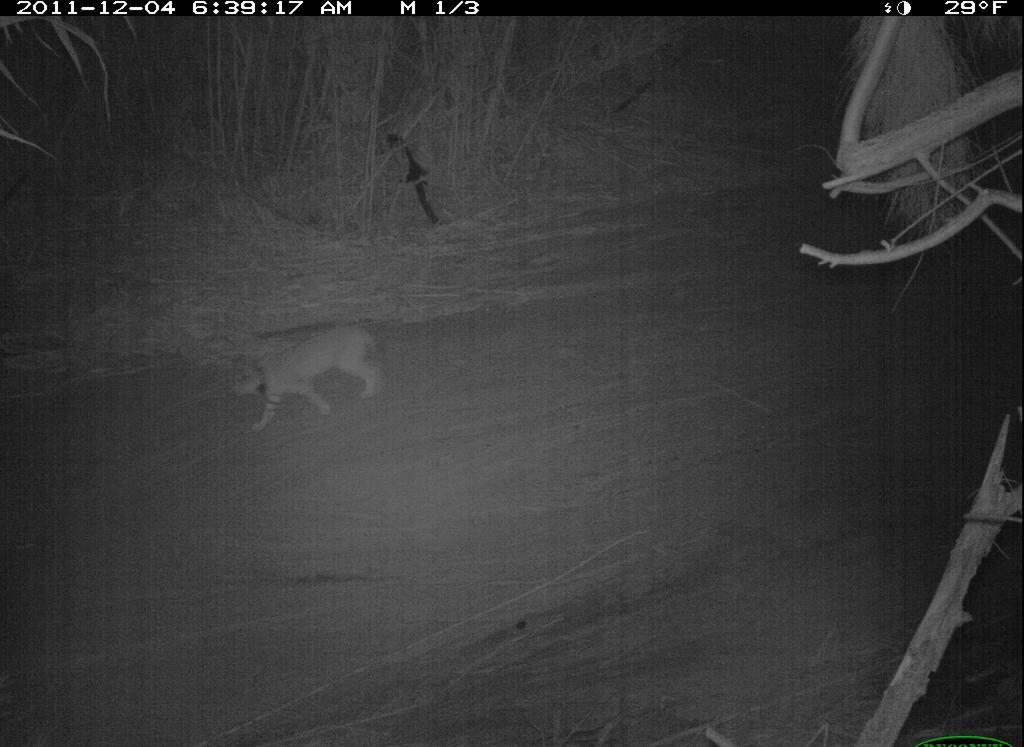bobcat: (225, 317, 387, 436)
